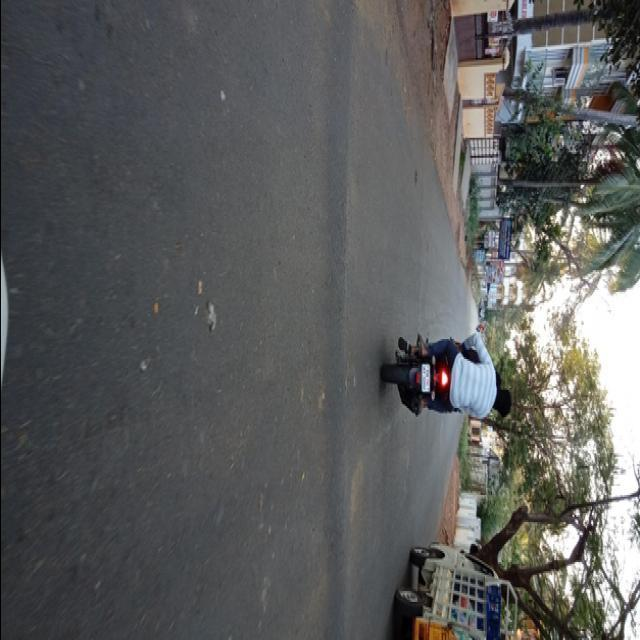speedbreaker: (320, 0, 358, 640)
